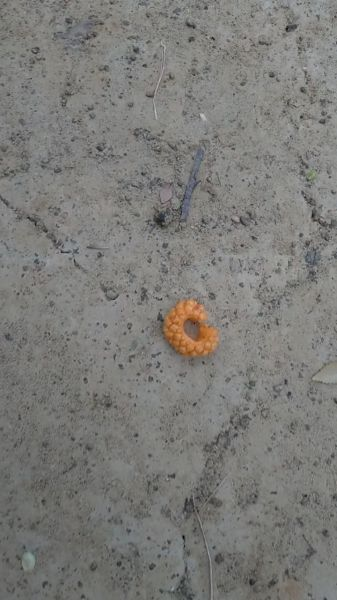eggs: (158, 291, 229, 369)
